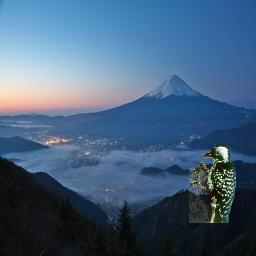Woodpecker: (189, 144, 236, 223)
